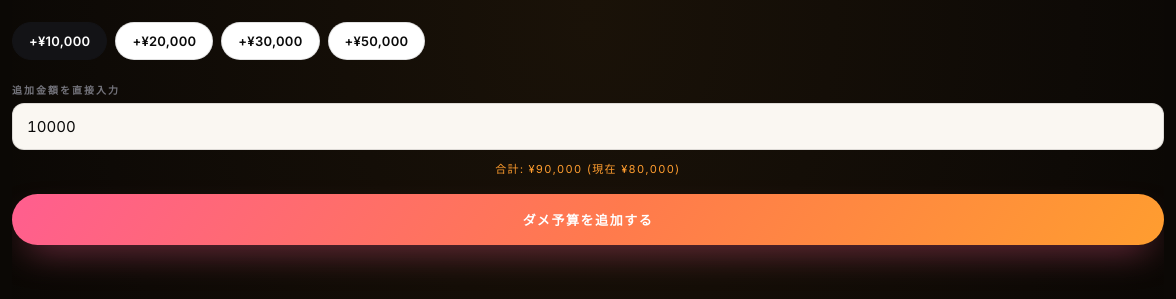
AddBudgetForm › カスタム入力で合計上限超過時にバリデーションエラーが出る
This screenshot has width=1176, height=299.
Replace the text in the number field with test id "add-budget-input" with "30000". click: (588, 126)
box: top-left (12, 103), bottom-right (1164, 150)
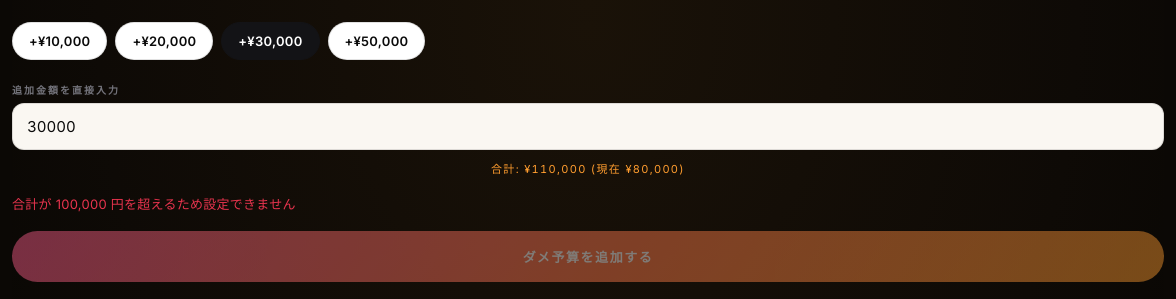
Expected: the message with test id "add-budget-validation-error" shows "合計が 100,000 円を超える", top-left (12, 196), bottom-right (296, 212)
